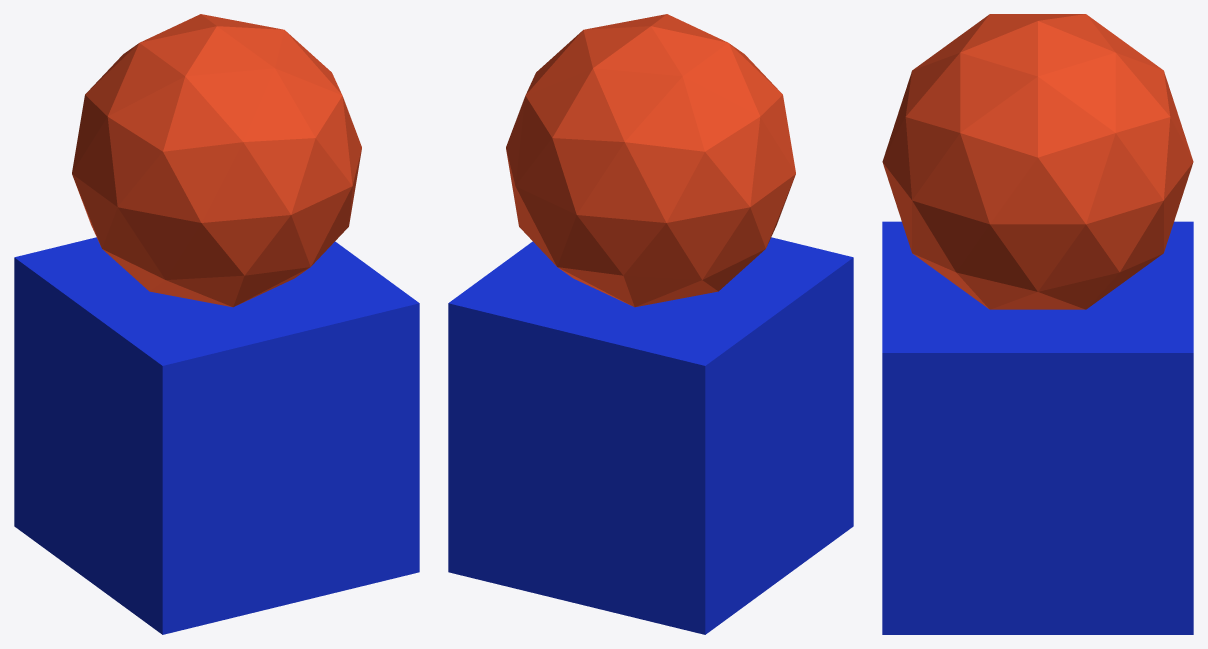
The model's file is baba.glb.
The picture shows the model from 3 angles, left to right: view 1: azimuth 30°, elevation 25°; view 2: azimuth 150°, elevation 25°; view 3: azimuth 270°, elevation 25°; orthographic projection. The views are drawn at different scales.
Visible parts, largest first — view 1: Cube, Icosphere; view 2: Cube, Icosphere; view 3: Cube, Icosphere.
Part boxes in pixels (x1,y1,x2,y2): Cube: [14, 237, 419, 634]; Icosphere: [72, 14, 361, 307]; Cube: [448, 237, 853, 634]; Icosphere: [506, 14, 795, 307]; Cube: [882, 221, 1193, 634]; Icosphere: [882, 14, 1193, 309].
Bounding box in the file's own units: 2 × 3.89 × 2.
